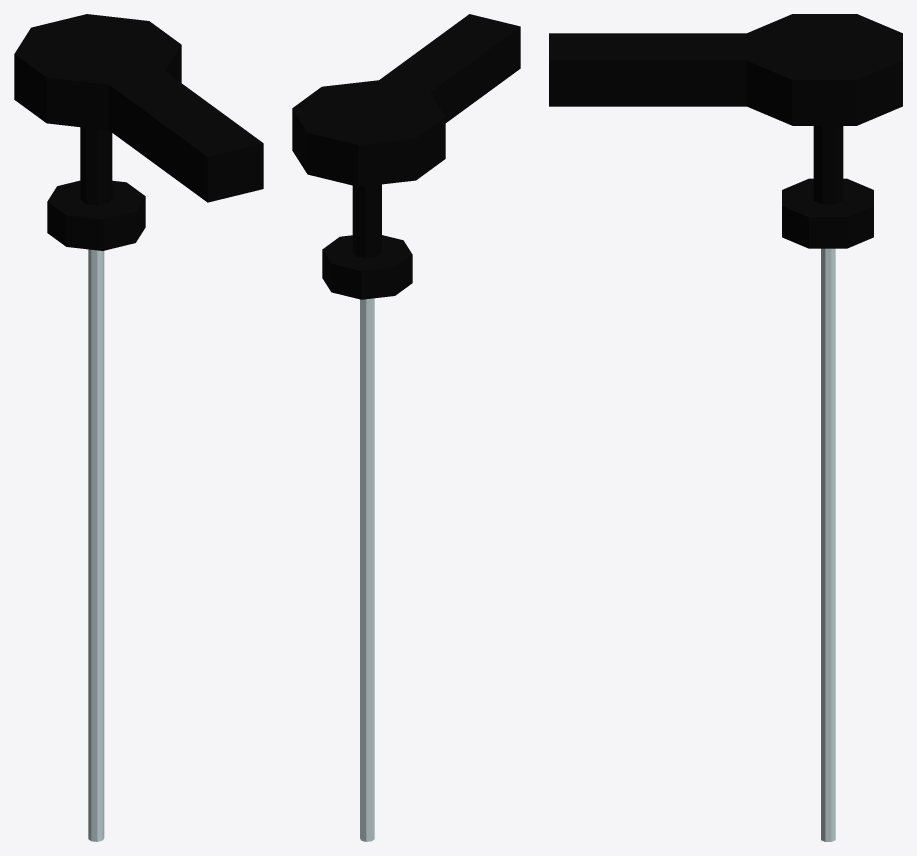
File: Itr_Obj_Dispenser_Tap_01.FBX
The picture shows the model from 3 angles, left to right: view 1: azimuth 30°, elevation 25°; view 2: azimuth 150°, elevation 25°; view 3: azimuth 270°, elevation 25°; orthographic projection. The views are drawn at different scales.
Visible parts, largest first — view 1: Itr_Obj_Dispenser_Tap_01; view 2: Itr_Obj_Dispenser_Tap_01; view 3: Itr_Obj_Dispenser_Tap_01.
Part boxes in pixels (left/top/right/bottom): Itr_Obj_Dispenser_Tap_01: left=14, top=14, right=263, bottom=841; Itr_Obj_Dispenser_Tap_01: left=292, top=14, right=520, bottom=841; Itr_Obj_Dispenser_Tap_01: left=549, top=14, right=902, bottom=841.
Size of the model in its own units: 1.57 by 8.78 by 3.55.
